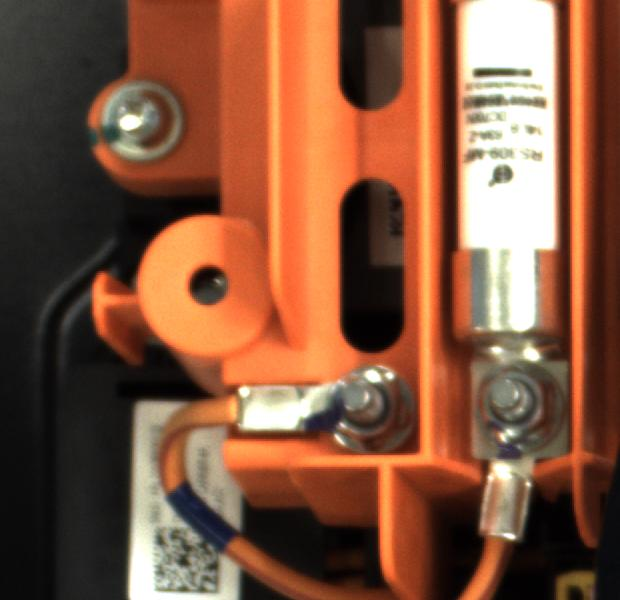screw_m: (83, 74, 200, 168)
screw_s: (464, 347, 558, 465), (306, 355, 412, 453)
